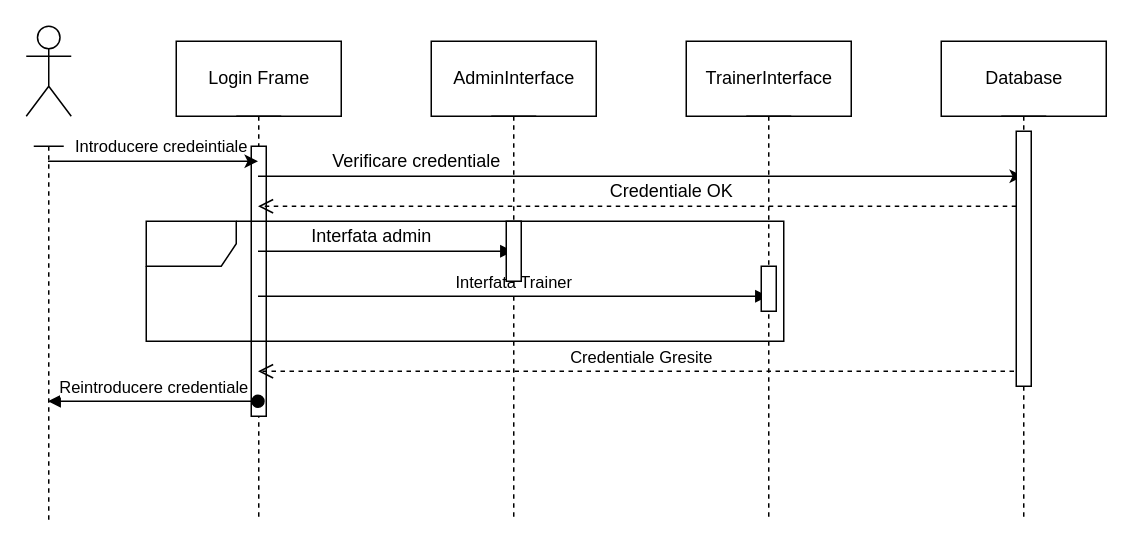
The diagram is 1133 pixels wide and 548 high, and some of its shapes have lost their labels. Each missing label, with the box of its shape:
Actor: (25, 25, 71, 116)
User returnat: (145, 220, 784, 341)
